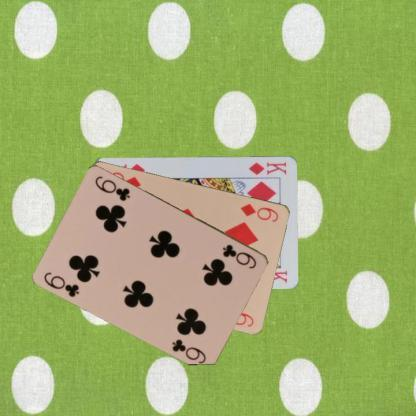6c: (42, 269, 82, 299), (220, 241, 258, 270)
6d: (238, 200, 280, 223)
Kd: (246, 158, 288, 176)
